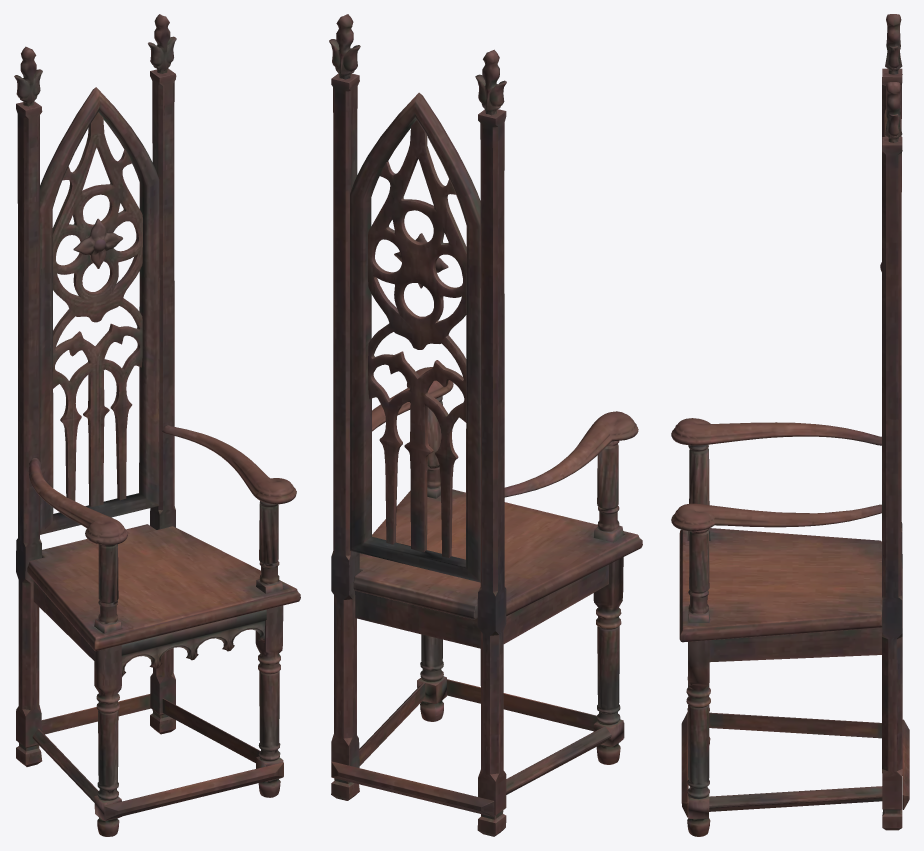
File: chair.glb
3 views of the same model, side by side, from view 1: azimuth 30°, elevation 25°; view 2: azimuth 150°, elevation 25°; view 3: azimuth 270°, elevation 25° (orthographic). The views are drawn at different scales.
Parts seen in each view (by area): view 1: WoodenChair_01; view 2: WoodenChair_01; view 3: WoodenChair_01.
Part boxes in pixels (<box>): WoodenChair_01: <box>14,14,300,836</box>; WoodenChair_01: <box>329,14,642,836</box>; WoodenChair_01: <box>671,14,909,836</box>.
Size of the model in its own units: 0.6881 by 2.27 by 0.6584.
1 material, 1 textured.
